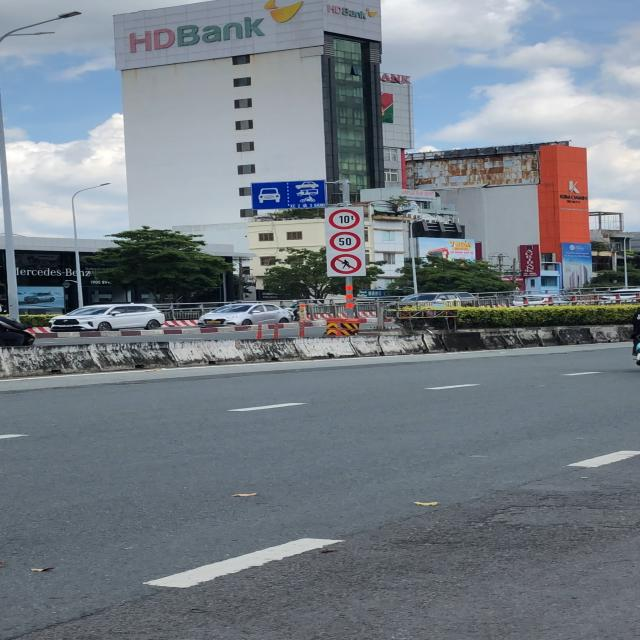Bien bao cam nguoi di bo: (329, 252, 366, 276)
Bien bao toc do toi da cho phep: (325, 230, 363, 252)
